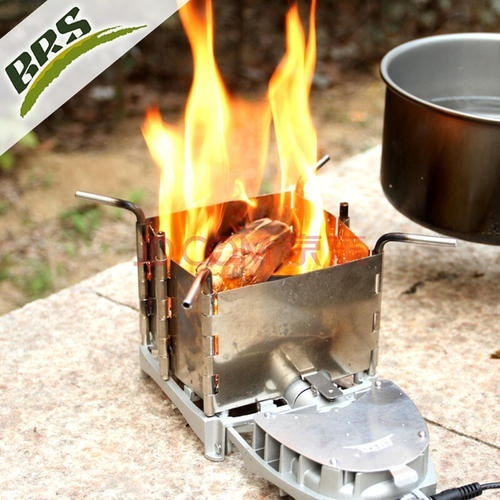fire: (137, 0, 372, 280)
